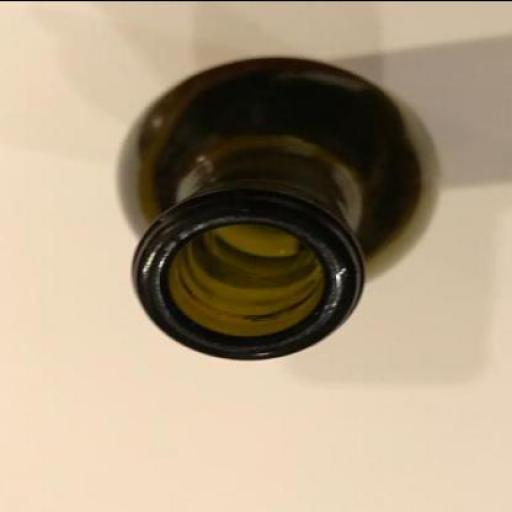glass: (116, 58, 433, 362)
